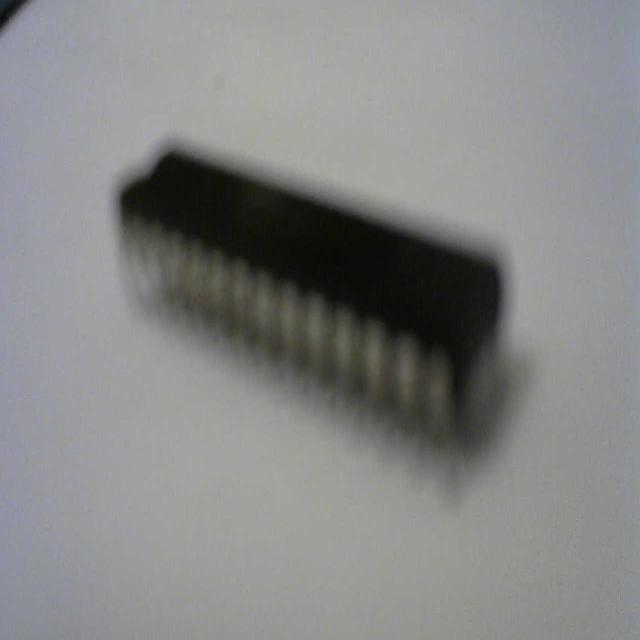atmega: (114, 133, 512, 467)
